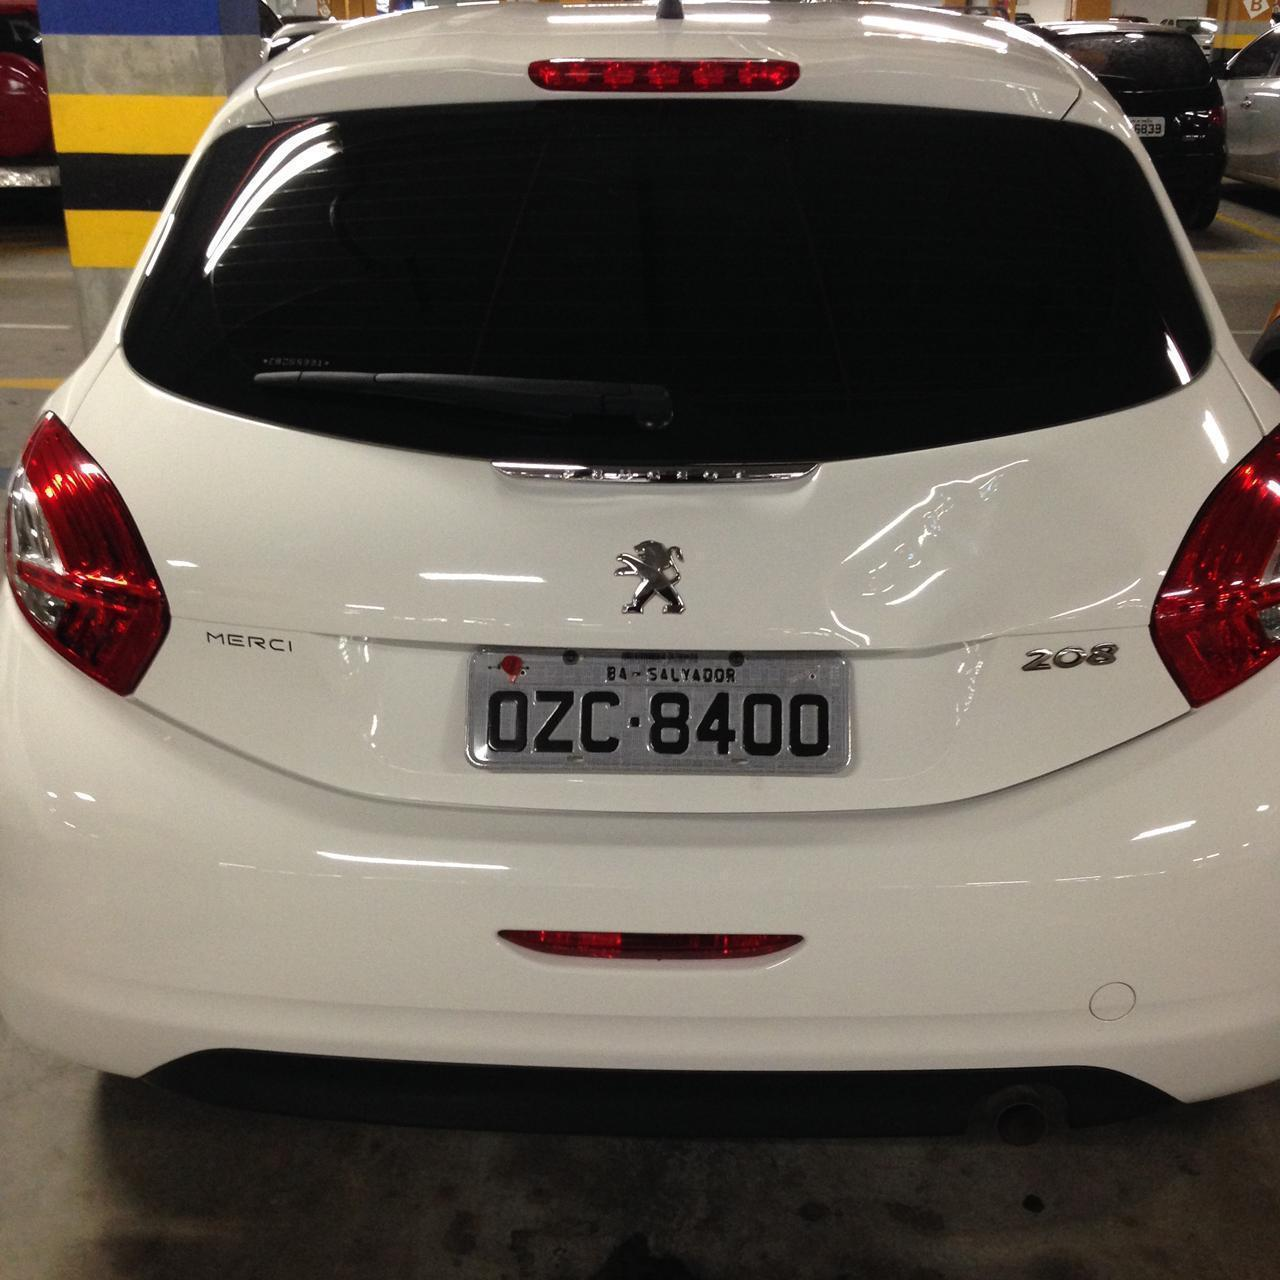placa de veiculo: (426, 601, 893, 815)
